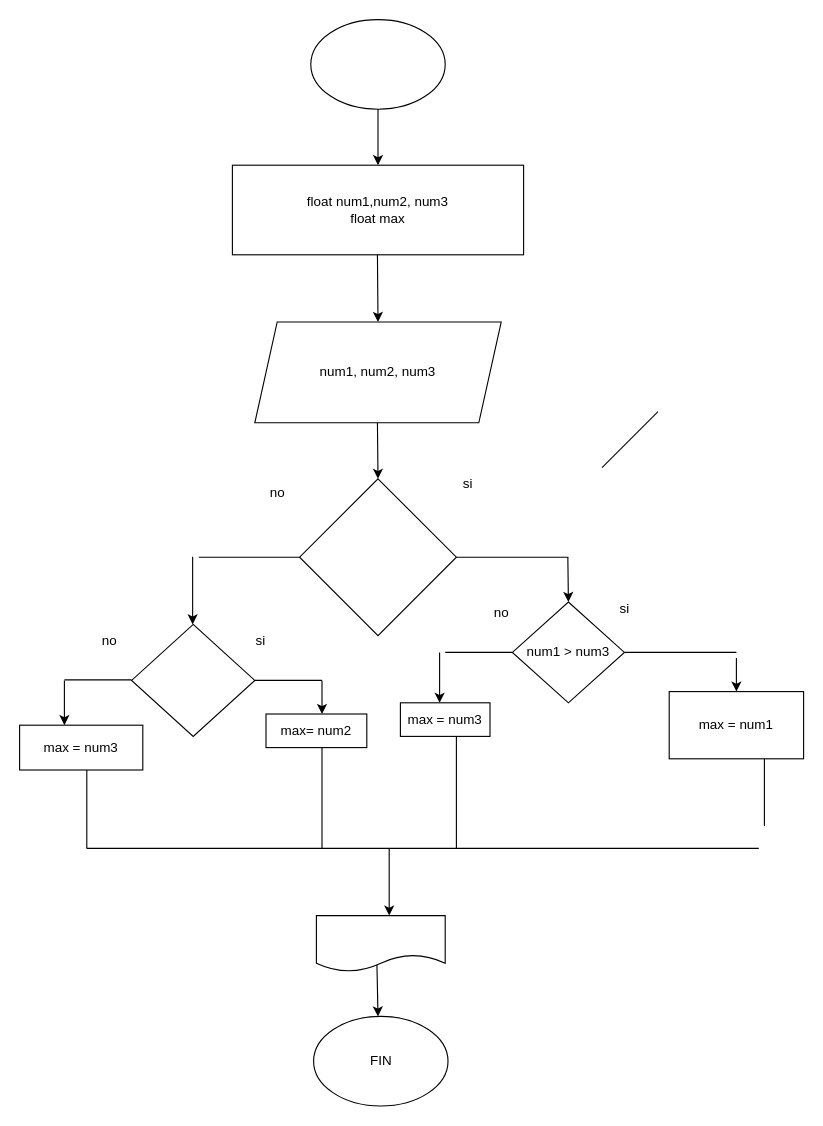
The diagram is 823 pixels wide and 1126 high, and some of its shapes have lost their labels. Each missing label, with the centre of its shape:
"INICIO" belongs at (377,63).
"max" belongs at (380,943).
"num1 > num2" belongs at (377,557).
"num2 > num3" belongs at (192,679).
